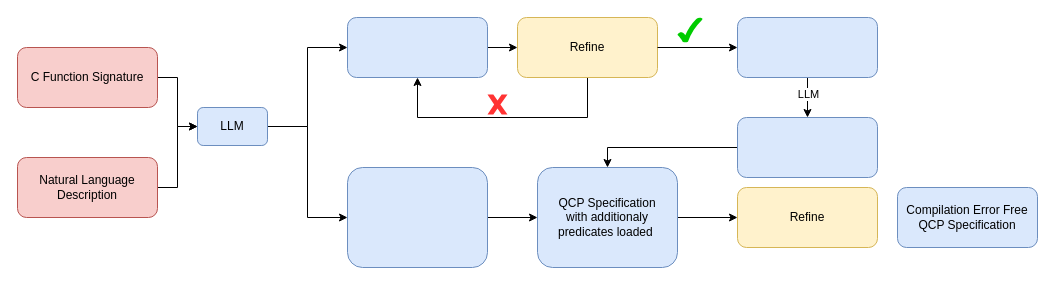
The diagram is 1055 pixels wide and 285 high, and some of its shapes have lost their labels. Here are the shapes that lost their labels. From the top down, the centre of each, then its label:
pixel 417 47: Coq Predicates
pixel 807 47: Compilation Error Free Coq Predicates
pixel 807 147: Annotations to load additonal Coq predicates
pixel 417 217: QCP Specification
